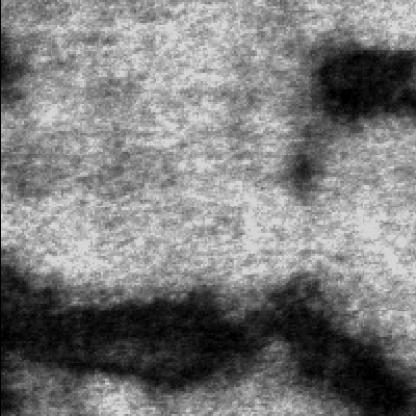patches: (2, 264, 276, 406), (254, 281, 416, 416), (318, 48, 416, 129)
